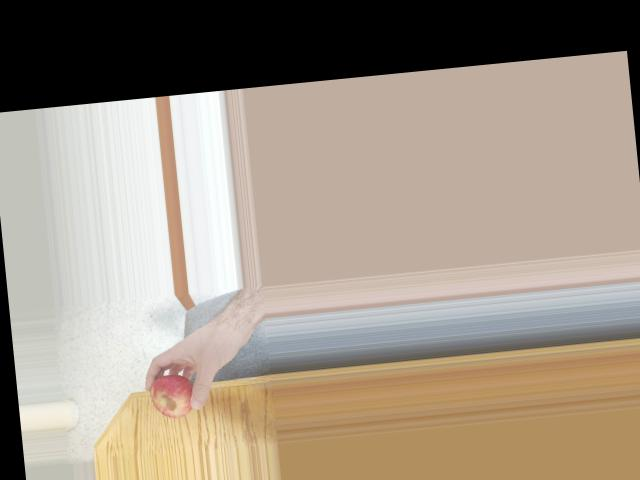apple: (146, 370, 202, 422)
